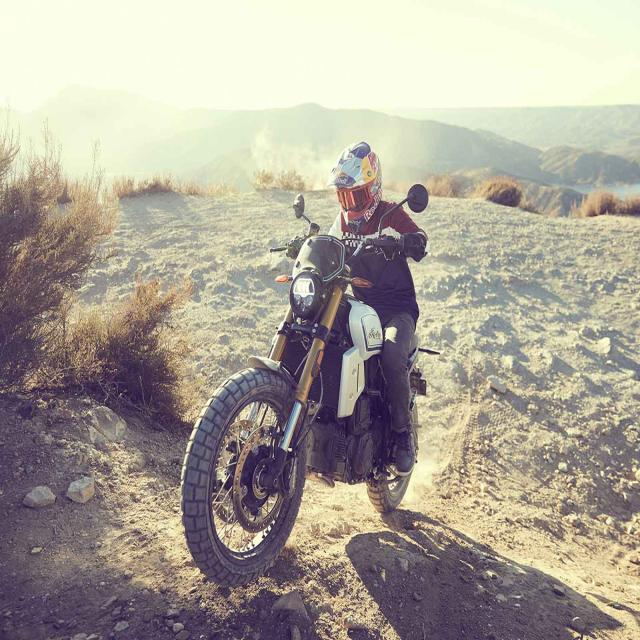motorcycle: (175, 137, 441, 583)
